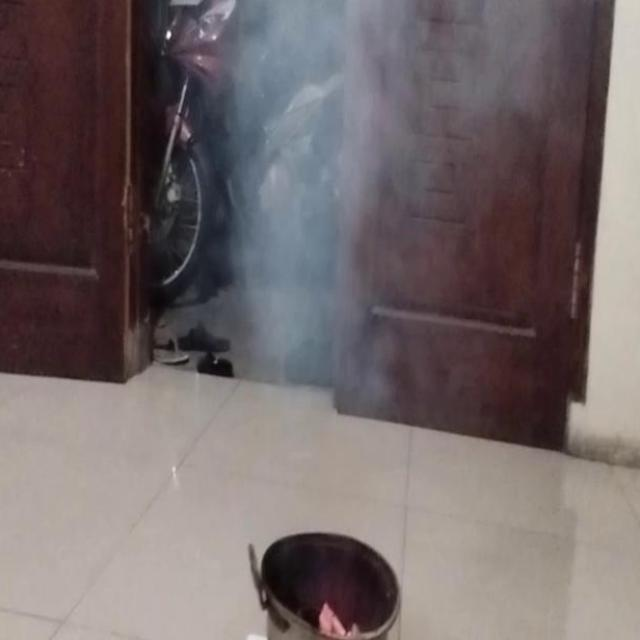fire: (224, 0, 436, 402)
